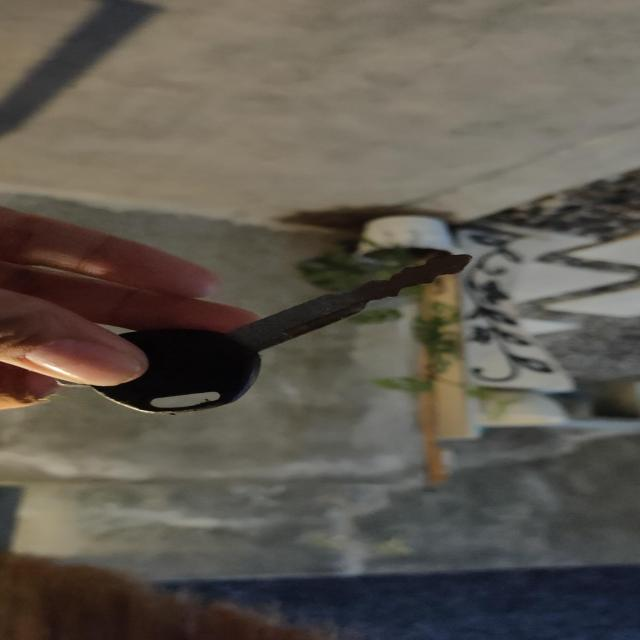kunci_motor: (78, 248, 480, 419)
